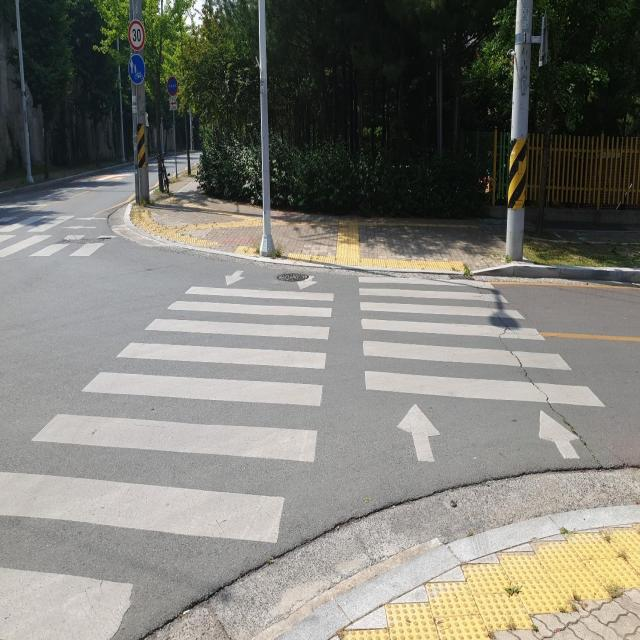횡단보도: (0, 268, 607, 639), (0, 212, 116, 260)
